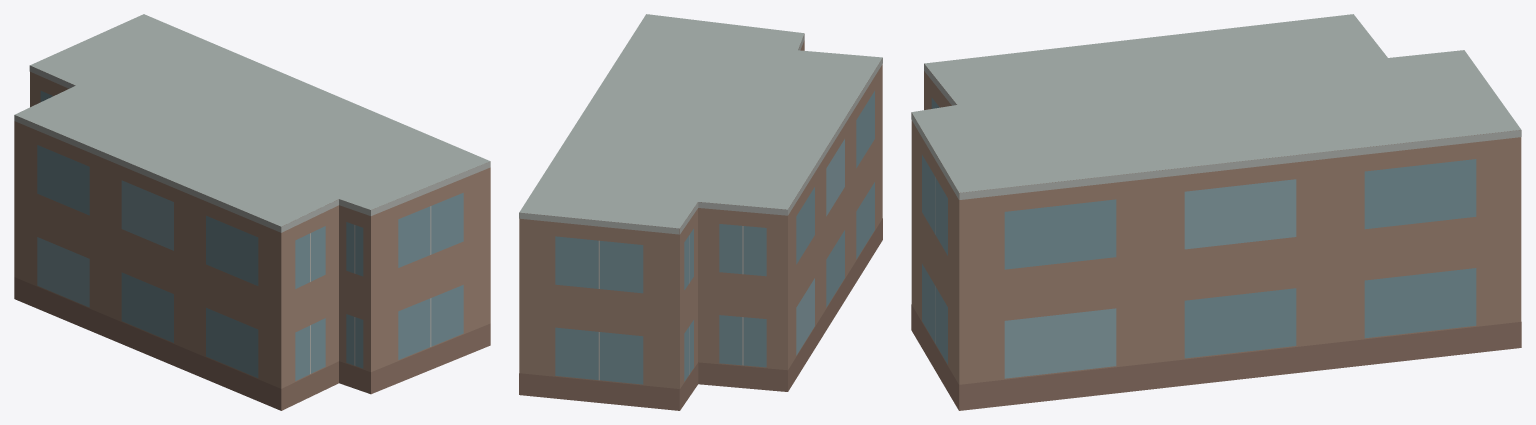
The model's file is survey-upis-32766822.glb.
3 views of the same model, side by side, from view 1: azimuth 30°, elevation 25°; view 2: azimuth 150°, elevation 25°; view 3: azimuth 270°, elevation 25° (orthographic). The views are drawn at different scales.
Parts seen in each view (by area): view 1: survey-upis-32766822.tmp; view 2: survey-upis-32766822.tmp; view 3: survey-upis-32766822.tmp.
Part boxes in pixels (<box>): survey-upis-32766822.tmp: <box>14,14,490,410</box>; survey-upis-32766822.tmp: <box>519,14,882,410</box>; survey-upis-32766822.tmp: <box>911,14,1521,410</box>.
Bounding box in the file's own units: 12.85 × 7.3 × 18.52.
